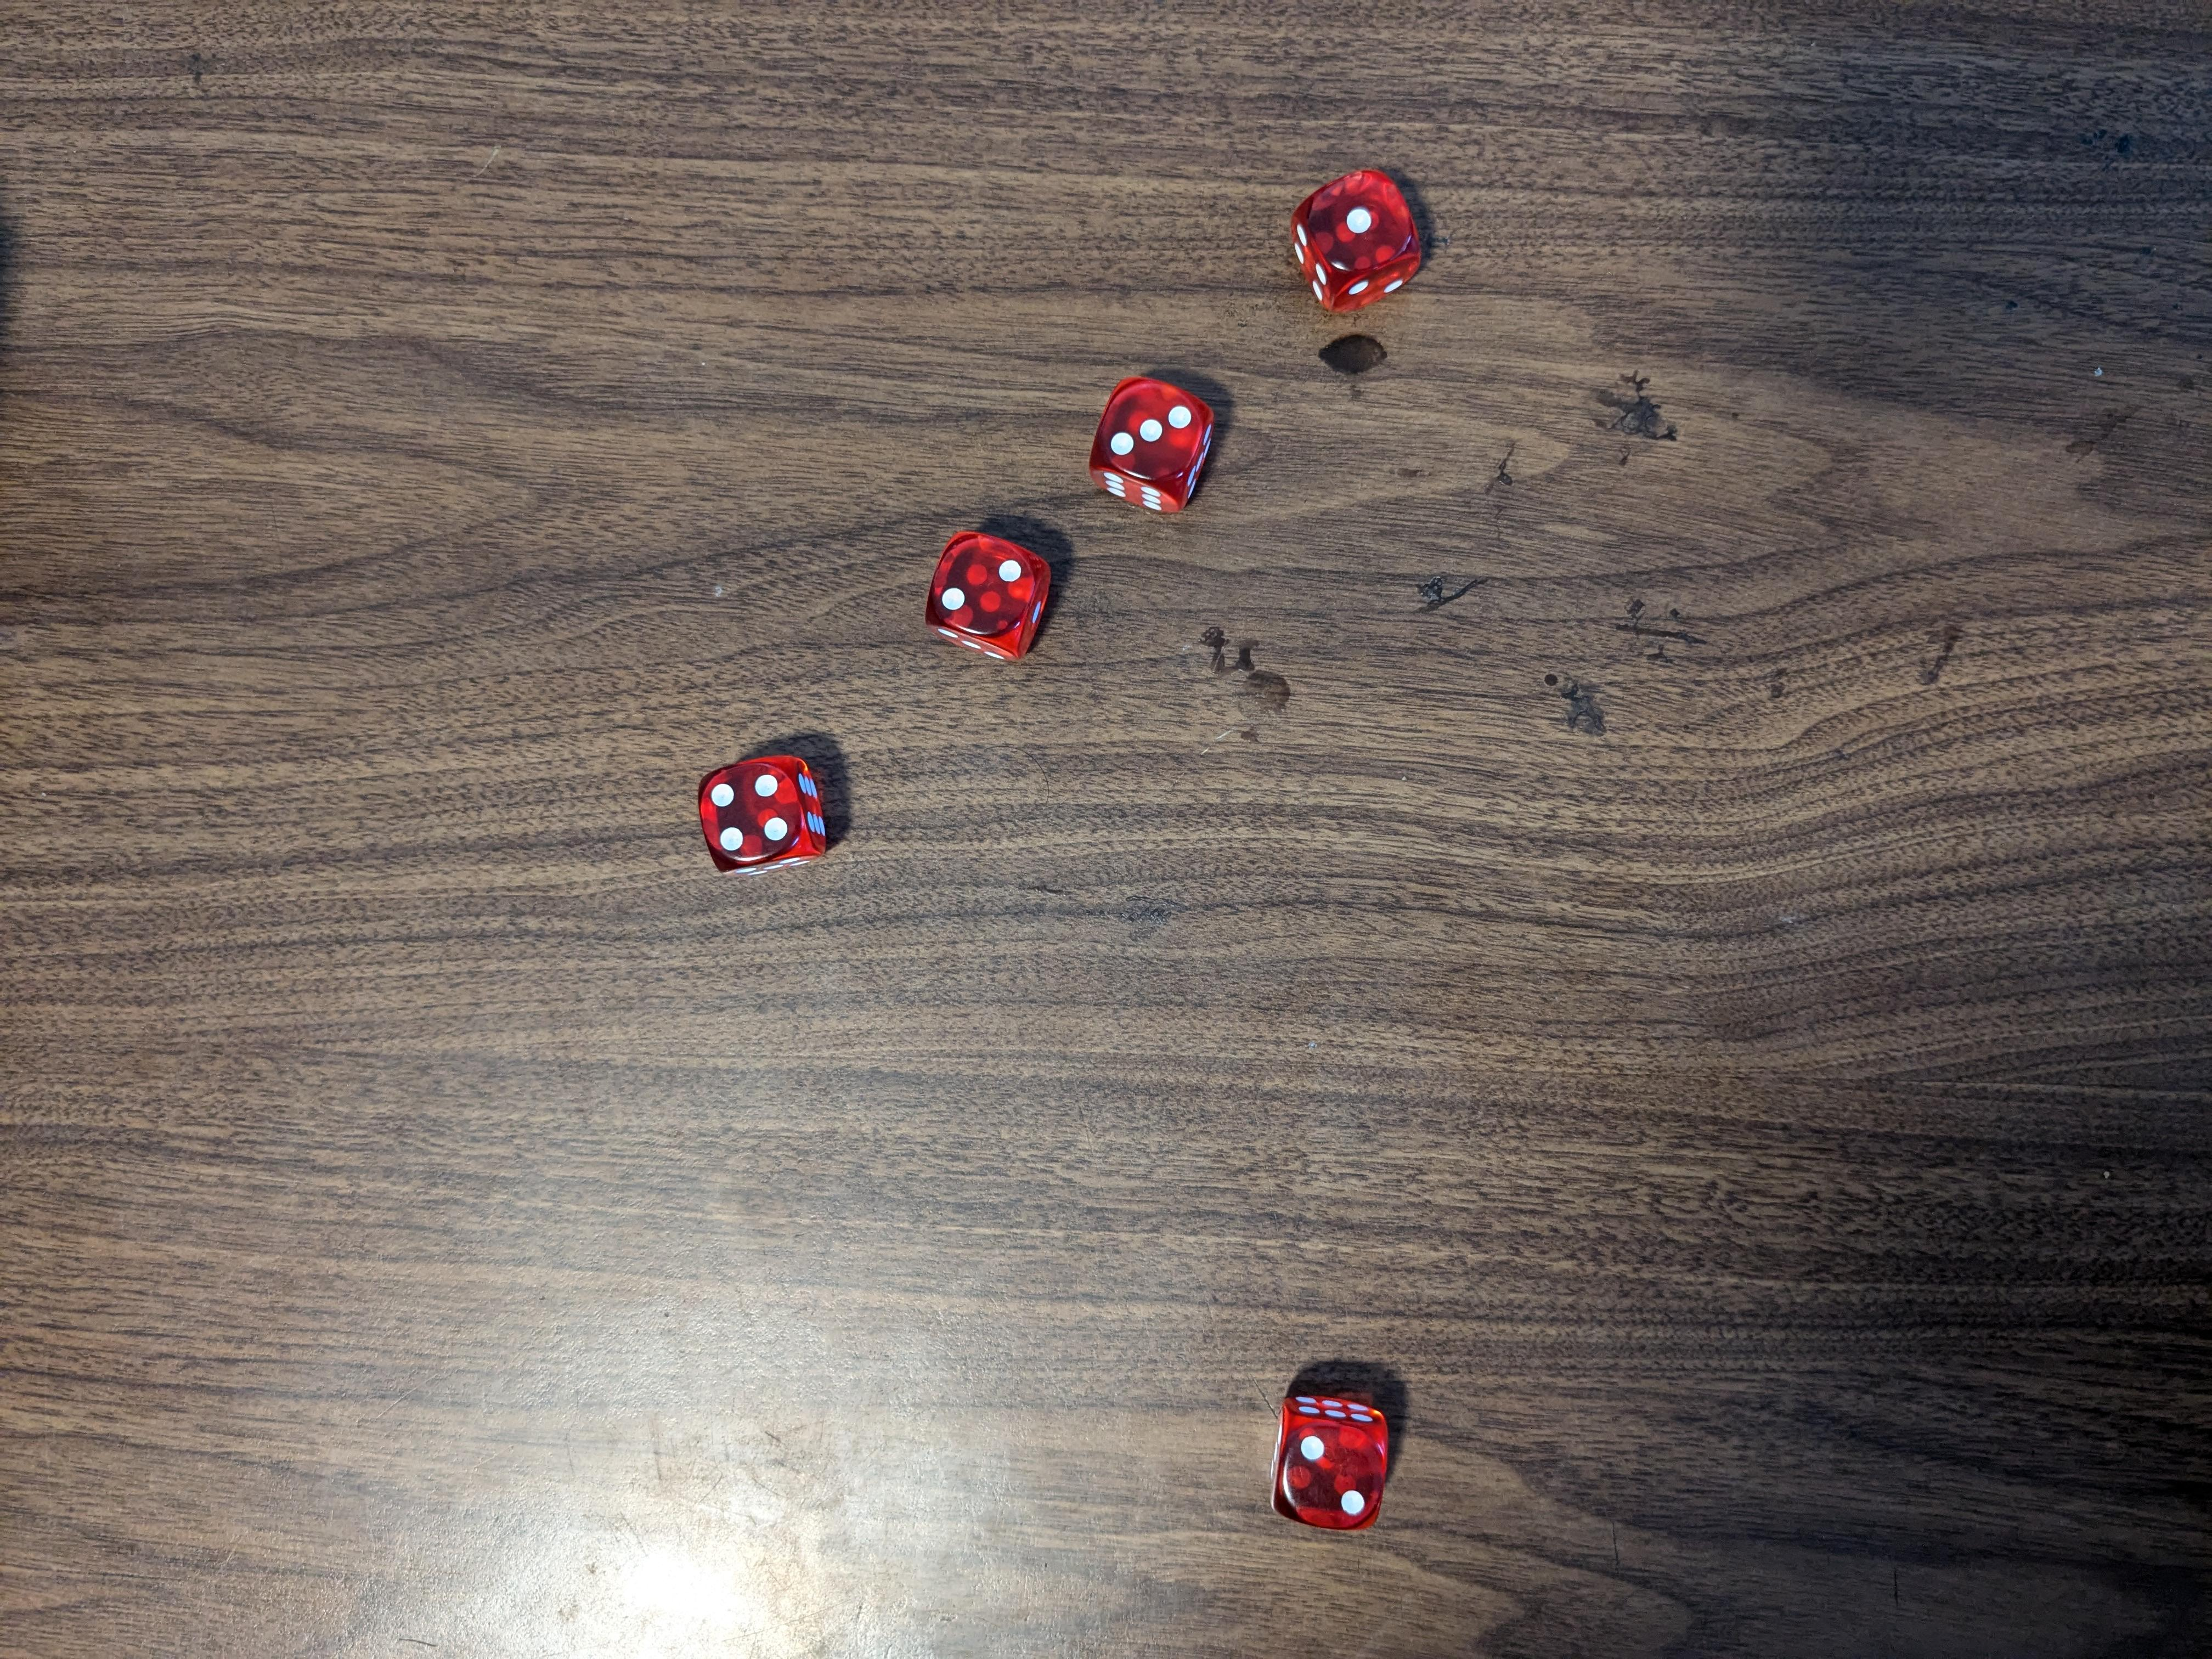four: (691, 755, 838, 887)
one: (1289, 167, 1432, 317)
three: (1089, 376, 1226, 519)
two: (921, 532, 1055, 664), (1270, 1394, 1390, 1541)
